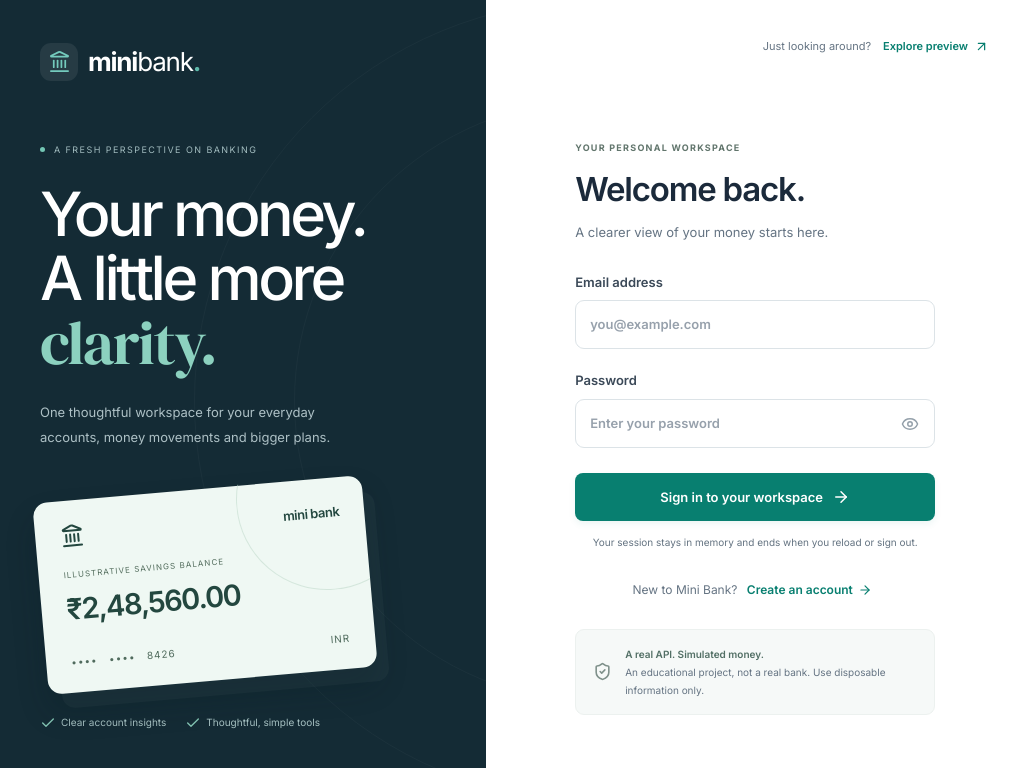
Test case: opens a real session via login and current-user, with a genuine empty state and no local storage
Type "fake@example.com" into the field labelled "Email address" at (755, 325), box [575,300,935,349]
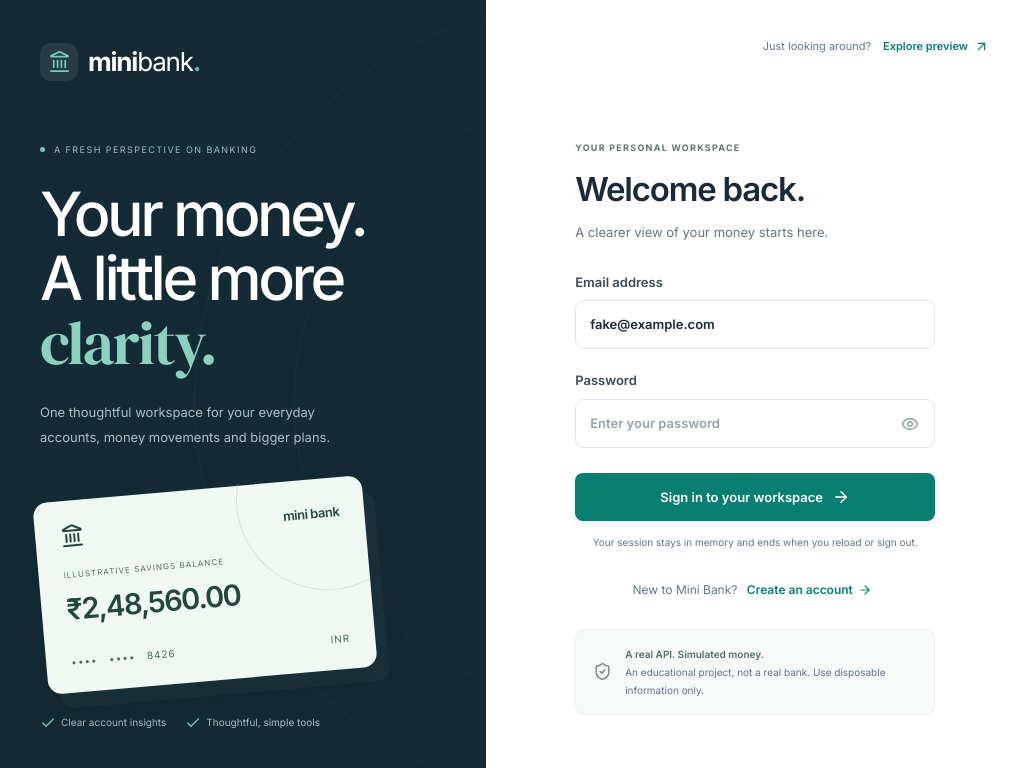
Type "fake-password1" into the password field labelled "Password" at (755, 423), box [575,399,935,448]
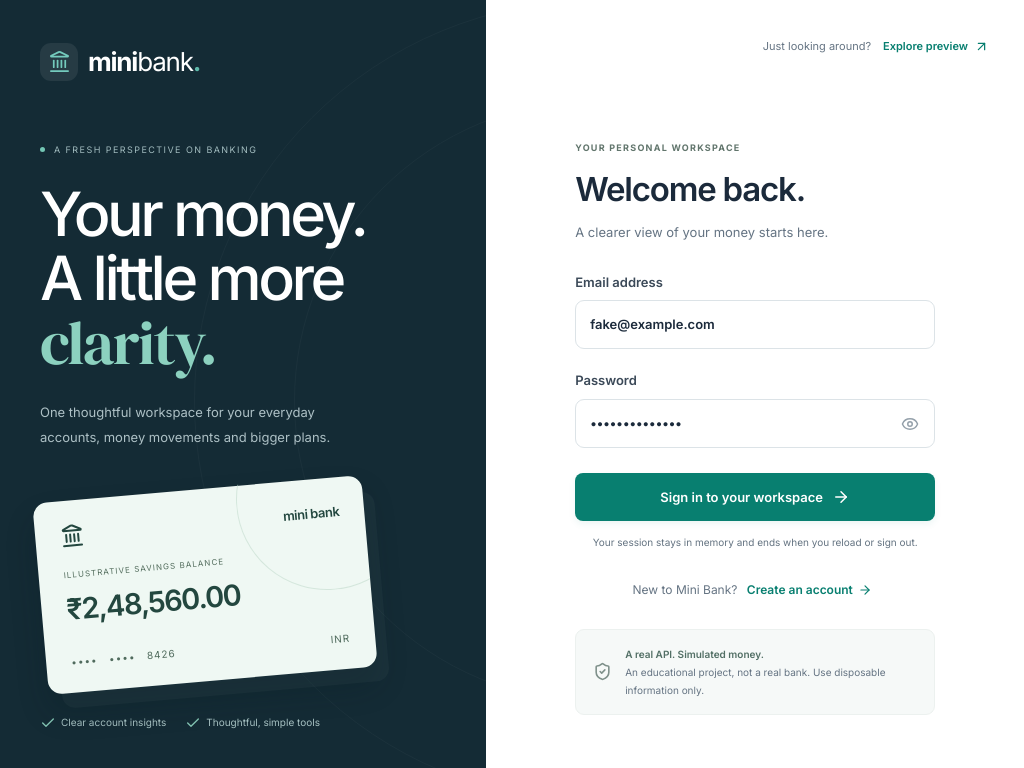
Click the button "Sign in to your workspace" at (755, 497), box [575,473,935,521]
(page scrolled)
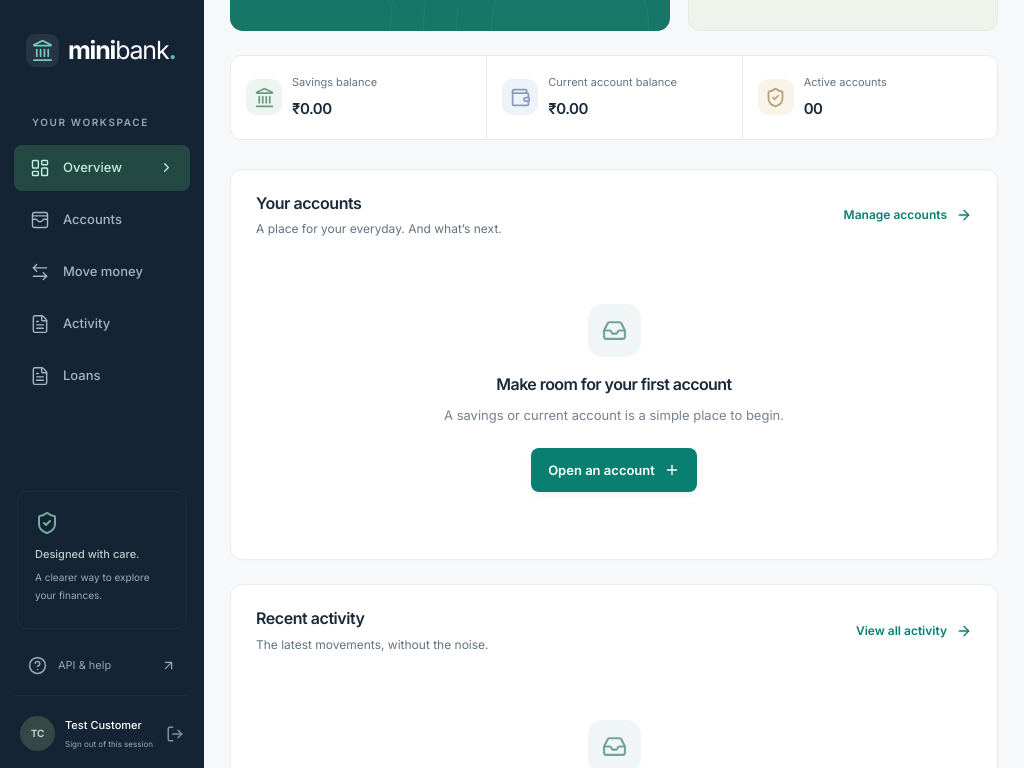
Result: the heading "Make room for your first account" is shown at [496,374,732,394]
